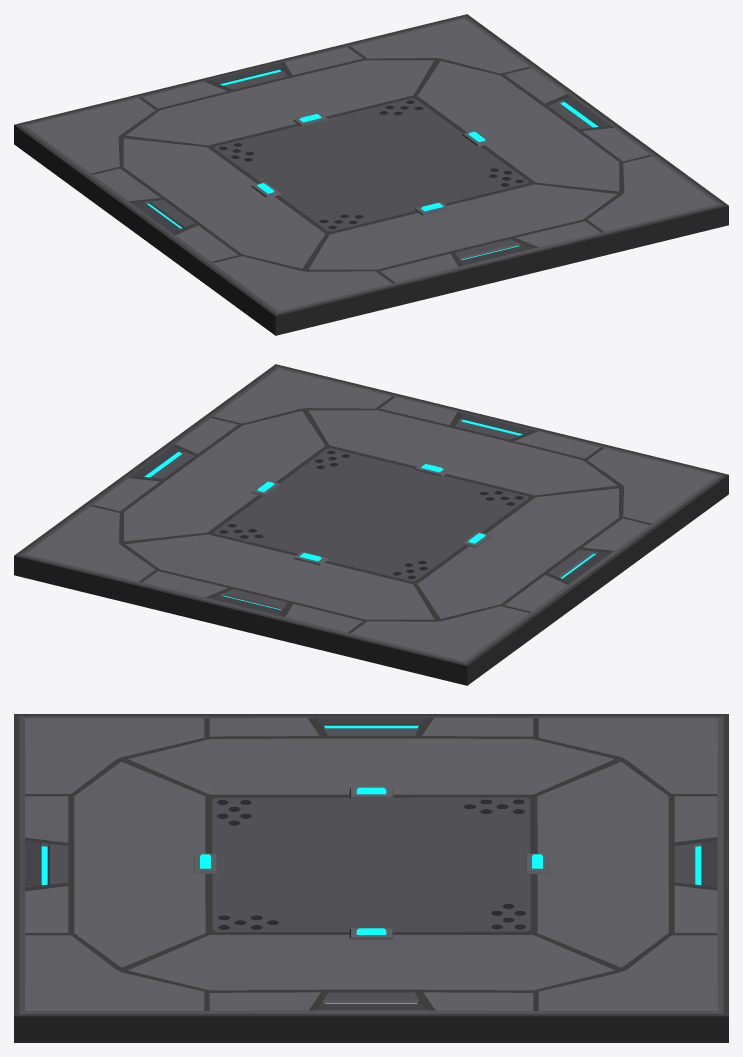
The model's file is SM_Bld_Floor_010.fbx.
3 views of the same model, one above another, from view 1: azimuth 30°, elevation 25°; view 2: azimuth 150°, elevation 25°; view 3: azimuth 270°, elevation 25° (orthographic). The views are drawn at different scales.
Parts seen in each view (by area): view 1: SM_Bld_Floor_010_LOD0; view 2: SM_Bld_Floor_010_LOD0; view 3: SM_Bld_Floor_010_LOD0.
Part boxes in pixels (x1,y1,x2,y2): SM_Bld_Floor_010_LOD0: [14, 14, 728, 335]; SM_Bld_Floor_010_LOD0: [14, 364, 728, 685]; SM_Bld_Floor_010_LOD0: [14, 714, 728, 1042].
Bounding box in the file's own units: 500 × 500 × 24.73.
1 material, 1 textured.
